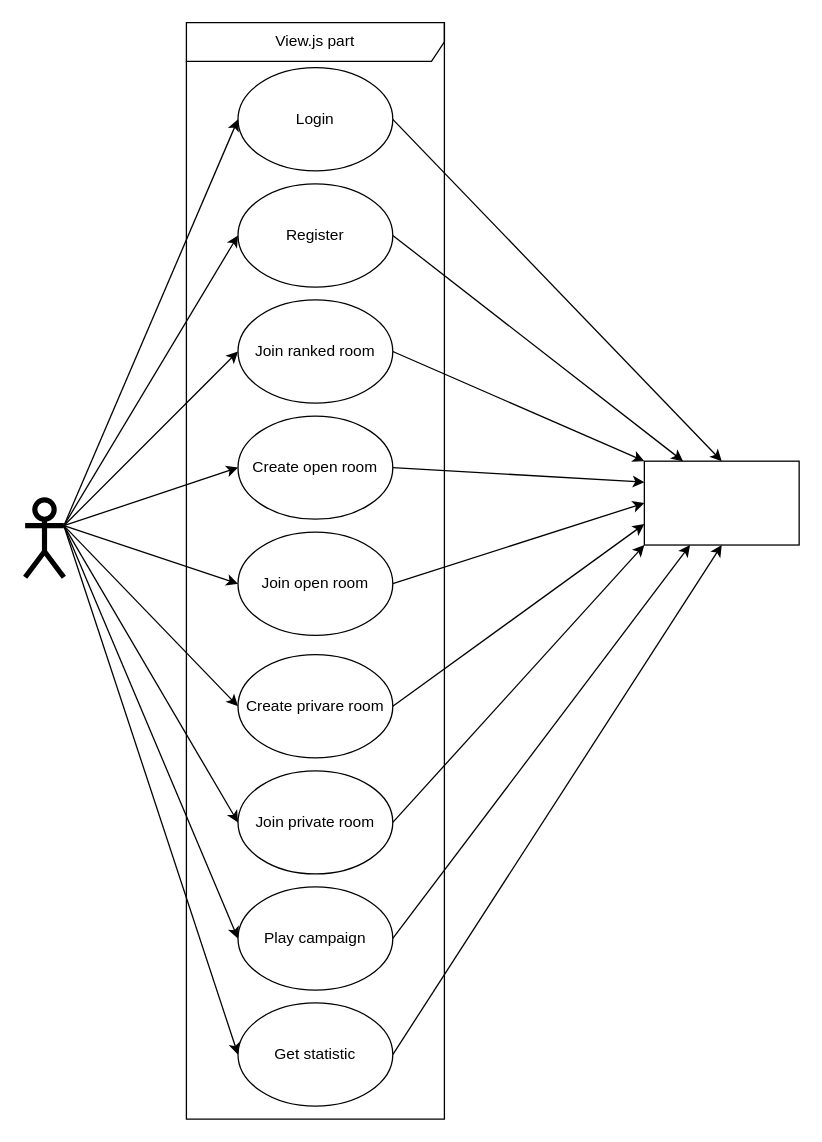
Some shapes in this 822 by 1142 pixel diagram are drawn without their labels. The shapes that lost their labels are listed below. From the top down, each one's centre as x and y in pixels, then its label:
pixel 721 502: <<actor>> Django API
pixel 44 538: Player
